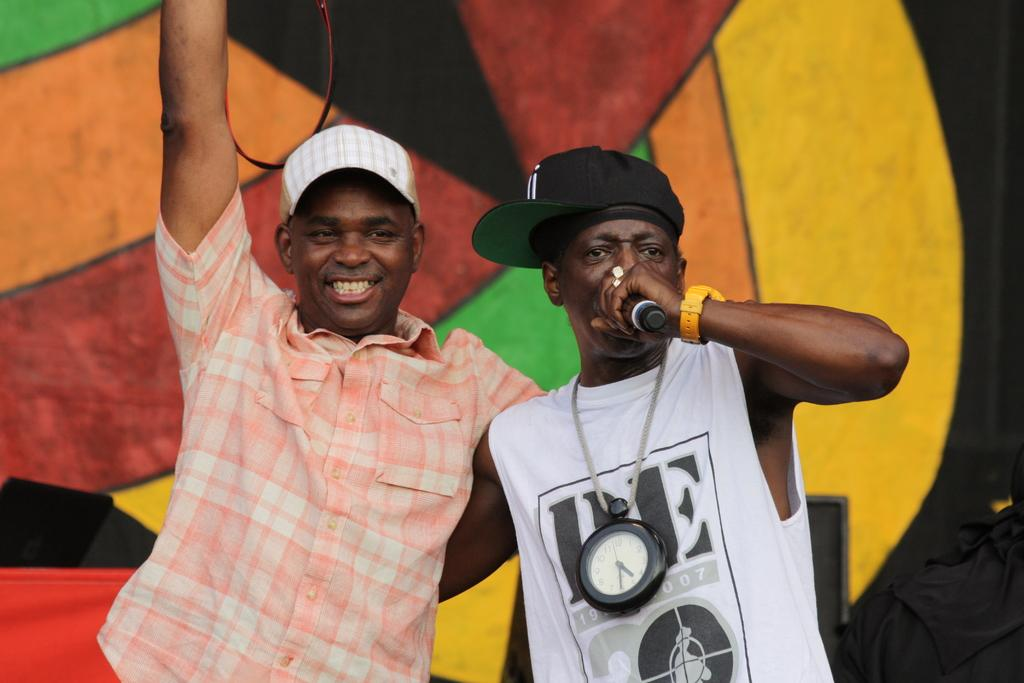Hat: (470, 143, 688, 269), (278, 120, 420, 223)
